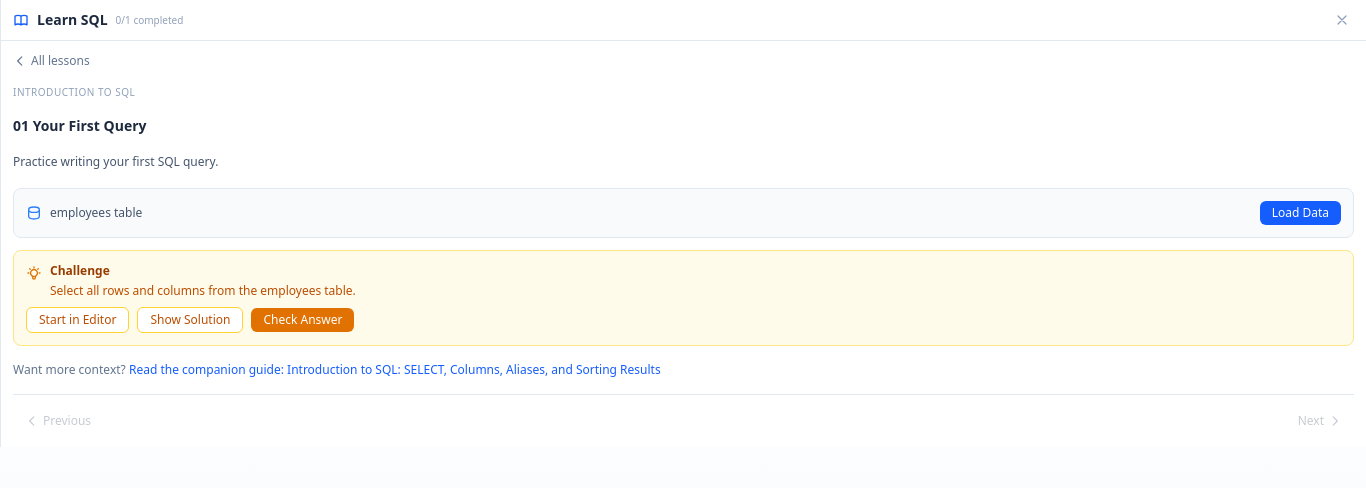
Scenario: LearnSQLPanel › shows an error and does not mark sample data loaded when setup SQL fails
Click the button "Load Data" at (1300, 212), box [1260,200,1341,224]
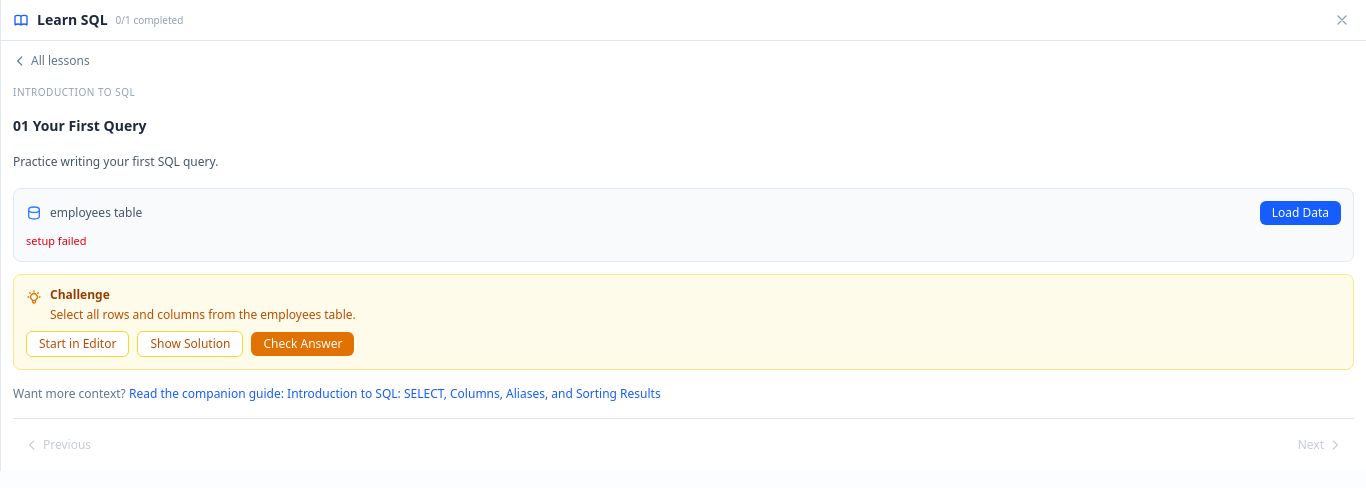
expect the text "setup failed" is shown: met, box [26,232,86,248]
